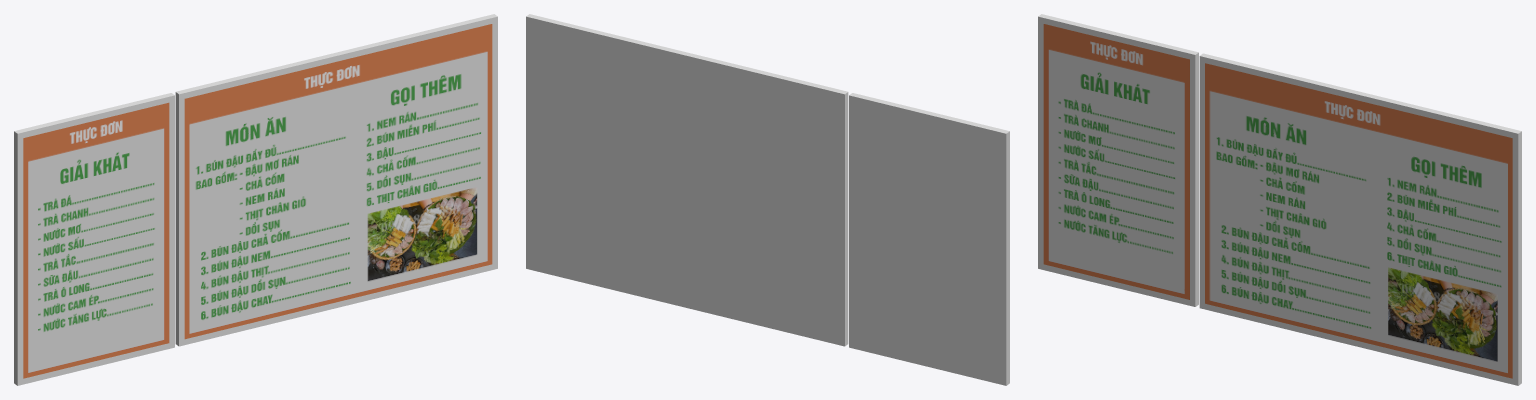
File: thuc_don.fbx
3 views of the same model, side by side, from view 1: azimuth 30°, elevation 25°; view 2: azimuth 150°, elevation 25°; view 3: azimuth 330°, elevation 25° (orthographic).
Parts seen in each view (by area): view 1: thuc_don; view 2: thuc_don; view 3: thuc_don.
Part boxes in pixels (<box>): thuc_don: <box>14,14,497,385</box>; thuc_don: <box>526,14,1009,385</box>; thuc_don: <box>1038,14,1521,385</box>.
Size of the model in its own units: 1011 by 507 by 12.94.
Materials: 1 (1 with a texture image).
